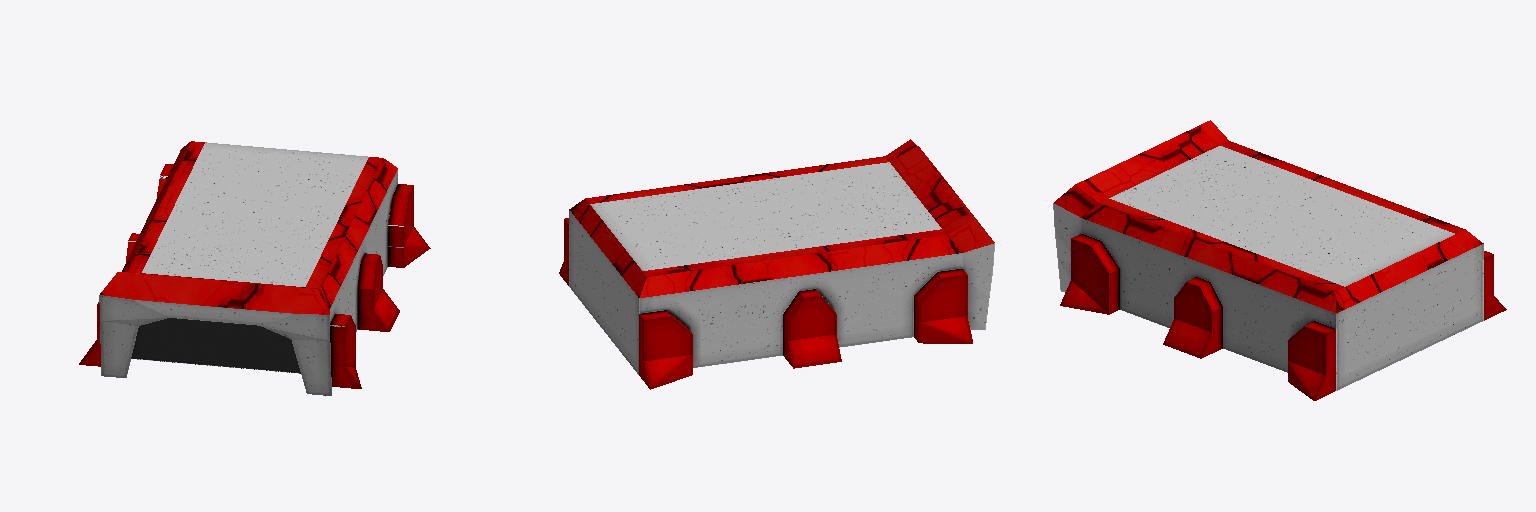
The picture shows the model from 3 angles: view 1: azimuth 30°, elevation 25°; view 2: azimuth 150°, elevation 25°; view 3: azimuth 270°, elevation 25°; orthographic projection.
Parts seen in each view (by area): view 1: Box008.000; view 2: Box008.000; view 3: Box008.000.
Boxes of the visible parts, x1=… form: Box008.000: x1=79, y1=141, x2=430, y2=395; Box008.000: x1=559, y1=139, x2=994, y2=389; Box008.000: x1=1053, y1=120, x2=1506, y2=400.
Size of the model in its own units: 44.93 by 11.6 by 46.
Materials: 1 (1 with a texture image).